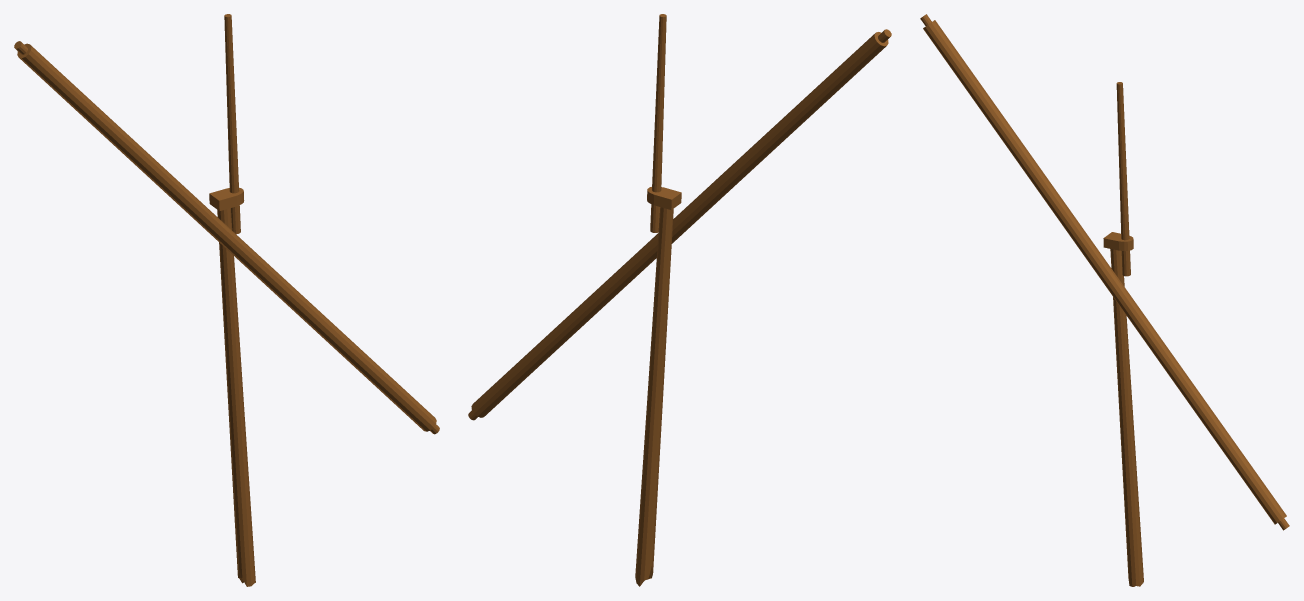
Rendered from Pole 4.fbx.
The picture shows the model from 3 angles, left to right: view 1: azimuth 30°, elevation 25°; view 2: azimuth 150°, elevation 25°; view 3: azimuth 330°, elevation 25°; orthographic projection. The views are drawn at different scales.
Parts seen in each view (by area): view 1: Cylinder.012; view 2: Cylinder.012; view 3: Cylinder.012.
Boxes of the visible parts, x1,y1,x2,y2 form: Cylinder.012: (14,14,439,586); Cylinder.012: (468,14,891,586); Cylinder.012: (920,14,1289,586).
Bounding box in the file's own units: 69.94 × 95.82 × 4.96.
